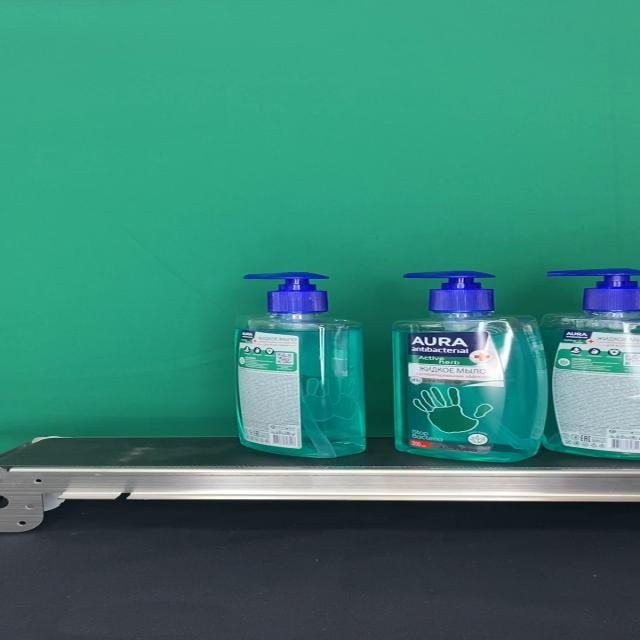Bottle: (392, 271, 548, 462), (234, 272, 366, 458)
Cap: (401, 271, 496, 314), (243, 273, 329, 315)
